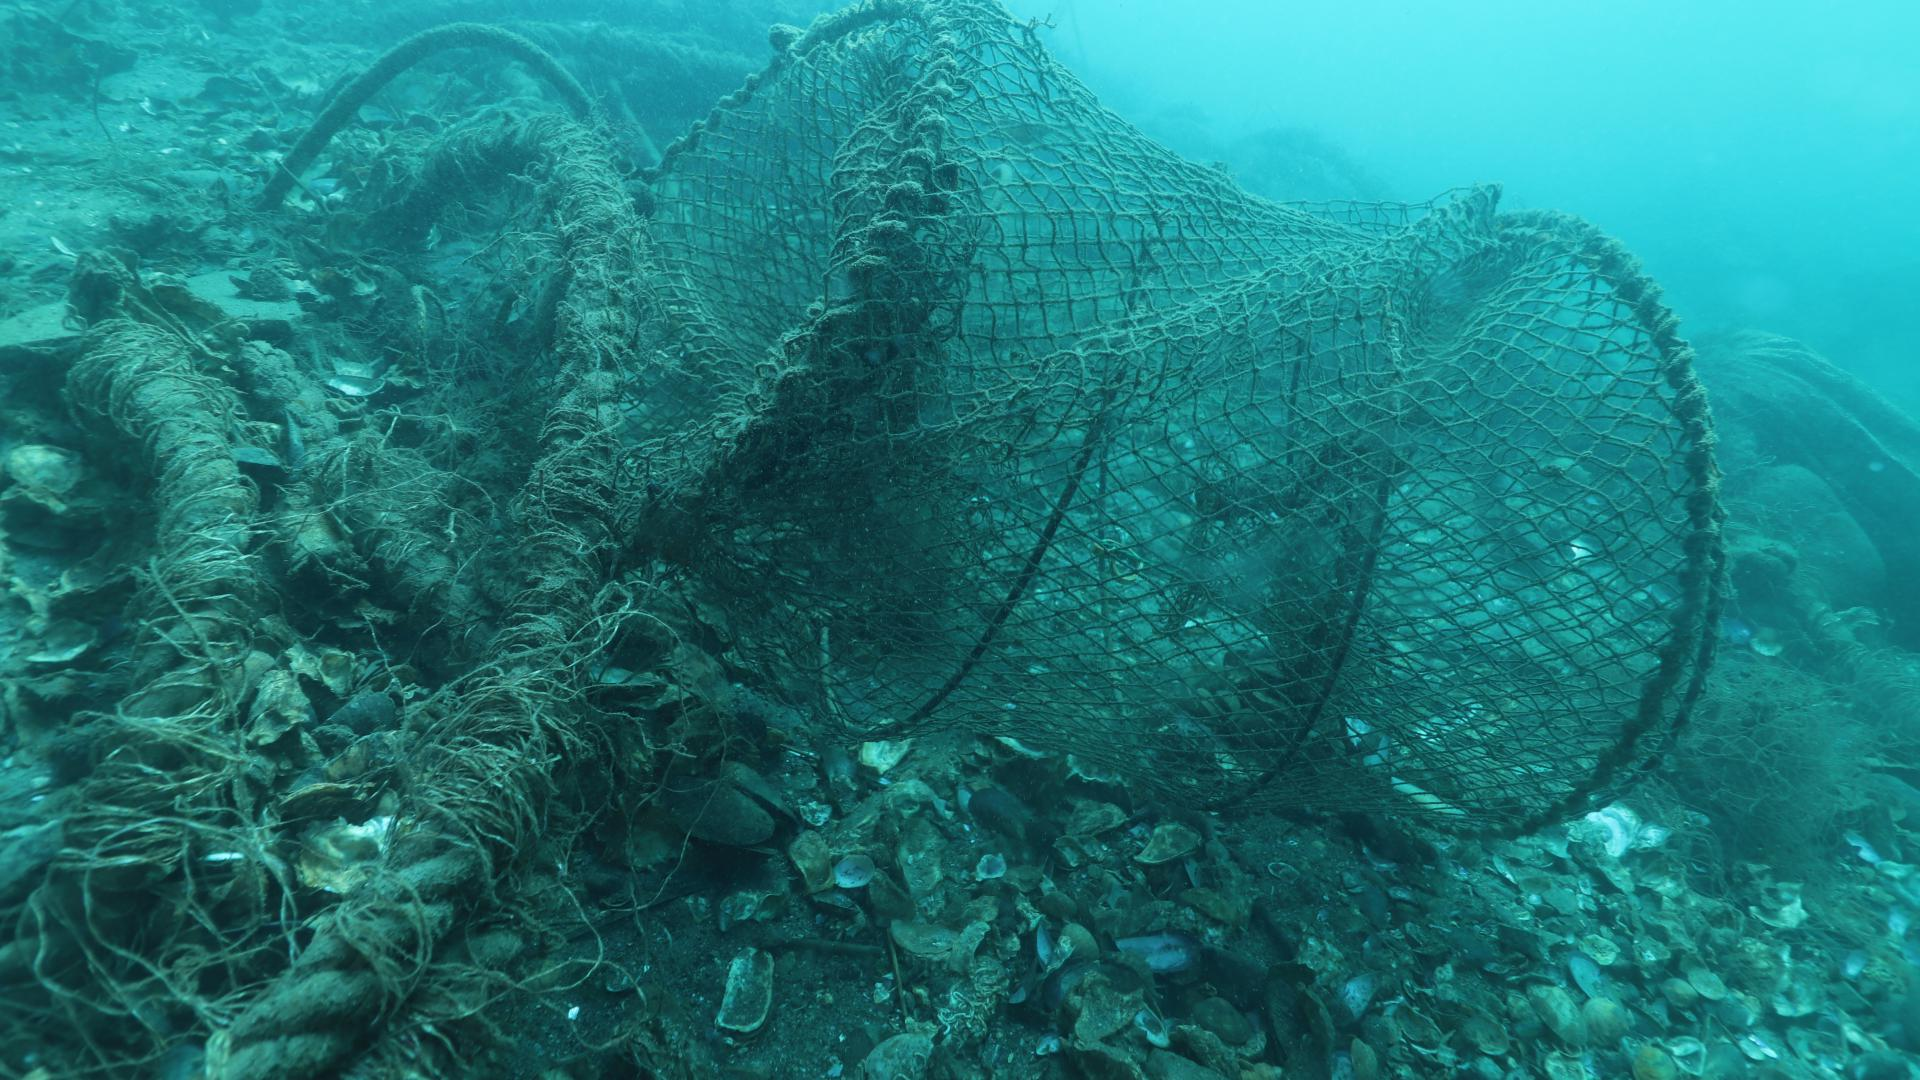bundle of ropes: (65, 339, 339, 579)
rope: (208, 833, 487, 1080)
spring fish trap: (618, 0, 1727, 847)
